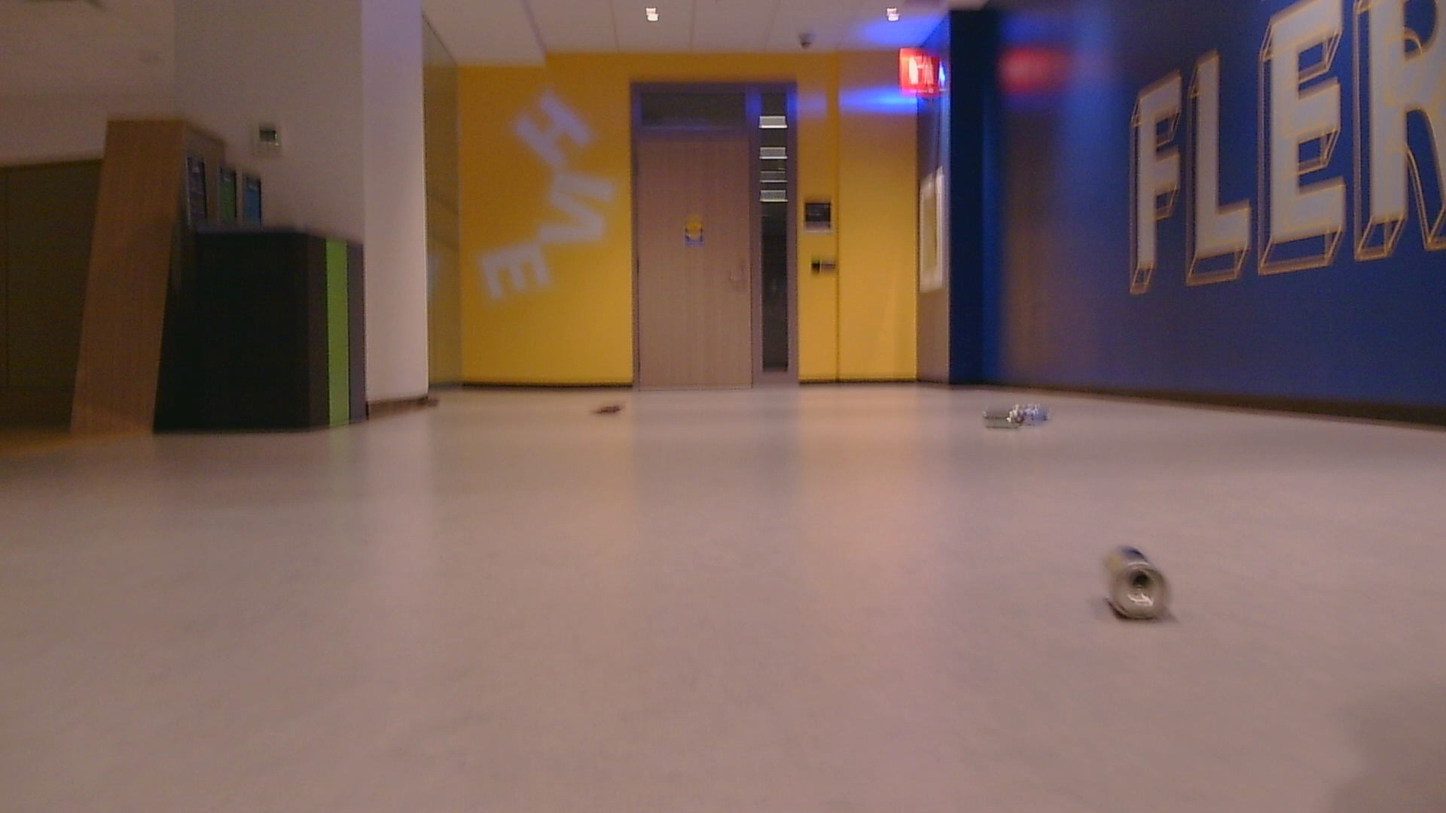can: (1103, 544, 1179, 623), (981, 401, 1051, 430), (587, 388, 645, 419)
